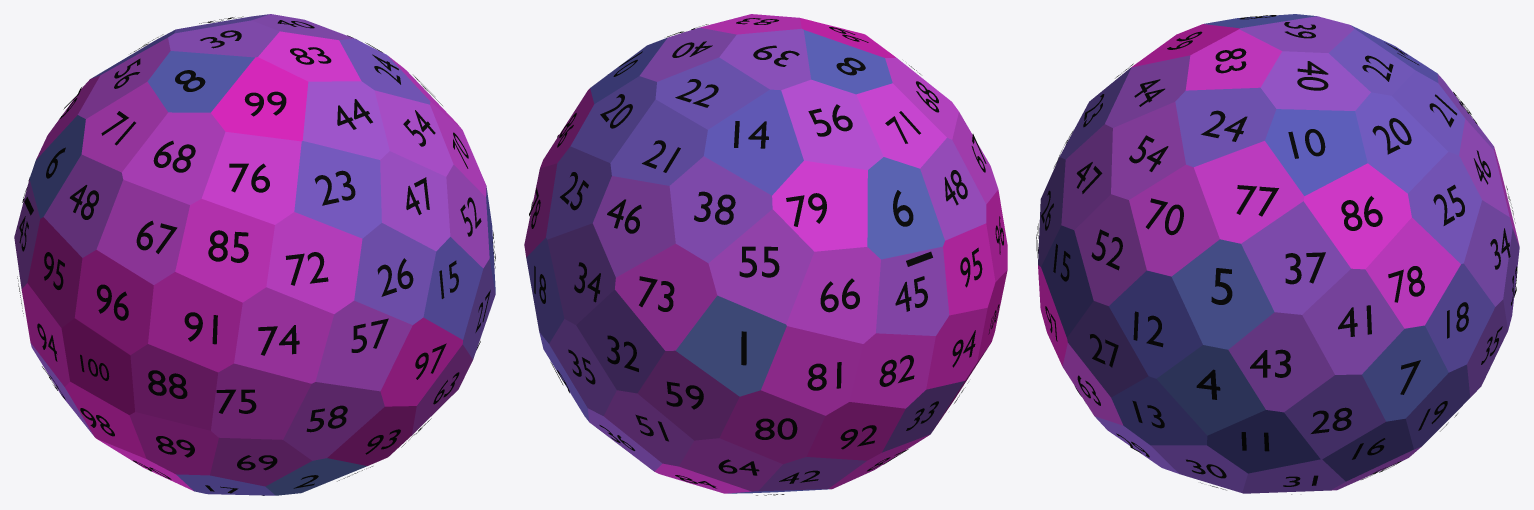
3 renders of one model, left to right at view 1: azimuth 30°, elevation 25°; view 2: azimuth 150°, elevation 25°; view 3: azimuth 270°, elevation 25°, orthographic.
Visible parts, largest first — view 1: d100, d100_num; view 2: d100, d100_num; view 3: d100, d100_num.
Part boxes in pixels (bbox=[...]): d100: bbox=[14, 14, 495, 495]; d100_num: bbox=[17, 16, 495, 495]; d100: bbox=[524, 14, 1007, 493]; d100_num: bbox=[529, 18, 1003, 495]; d100: bbox=[1038, 14, 1519, 493]; d100_num: bbox=[1036, 15, 1517, 494].
Bounding box in the file's own units: 4.47 × 4.46 × 4.49.
